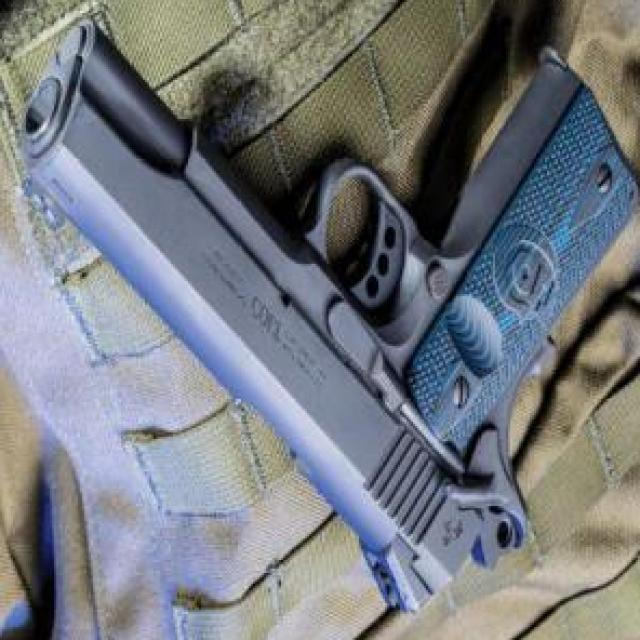pistol: (22, 10, 632, 605)
